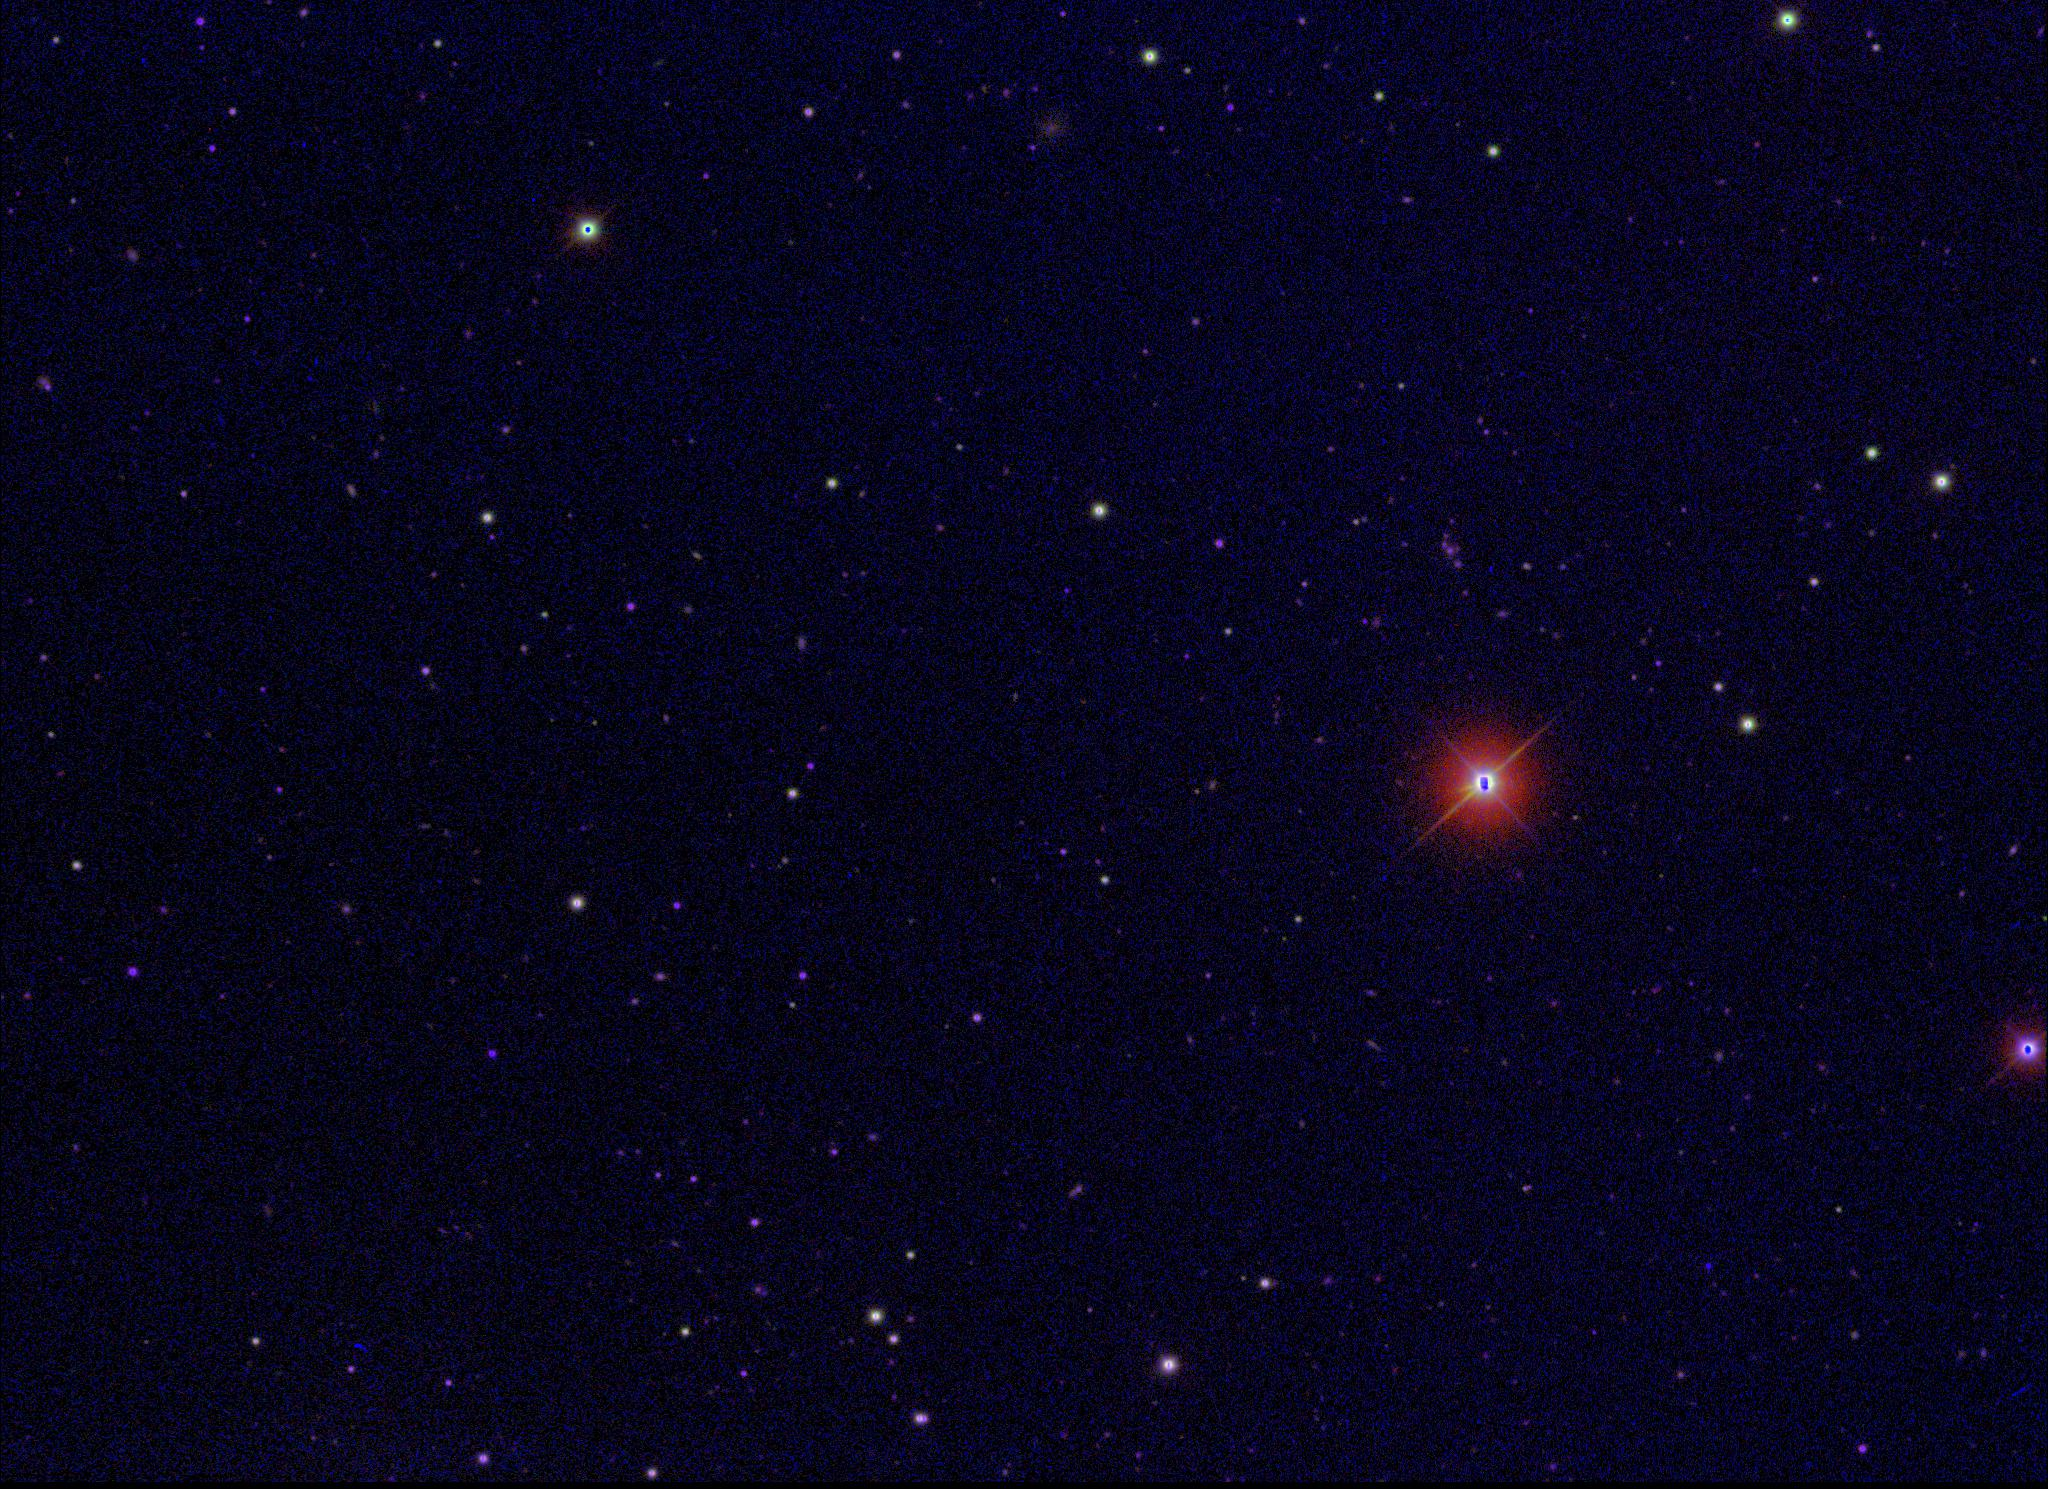L: (1700, 1255, 1712, 1269)
